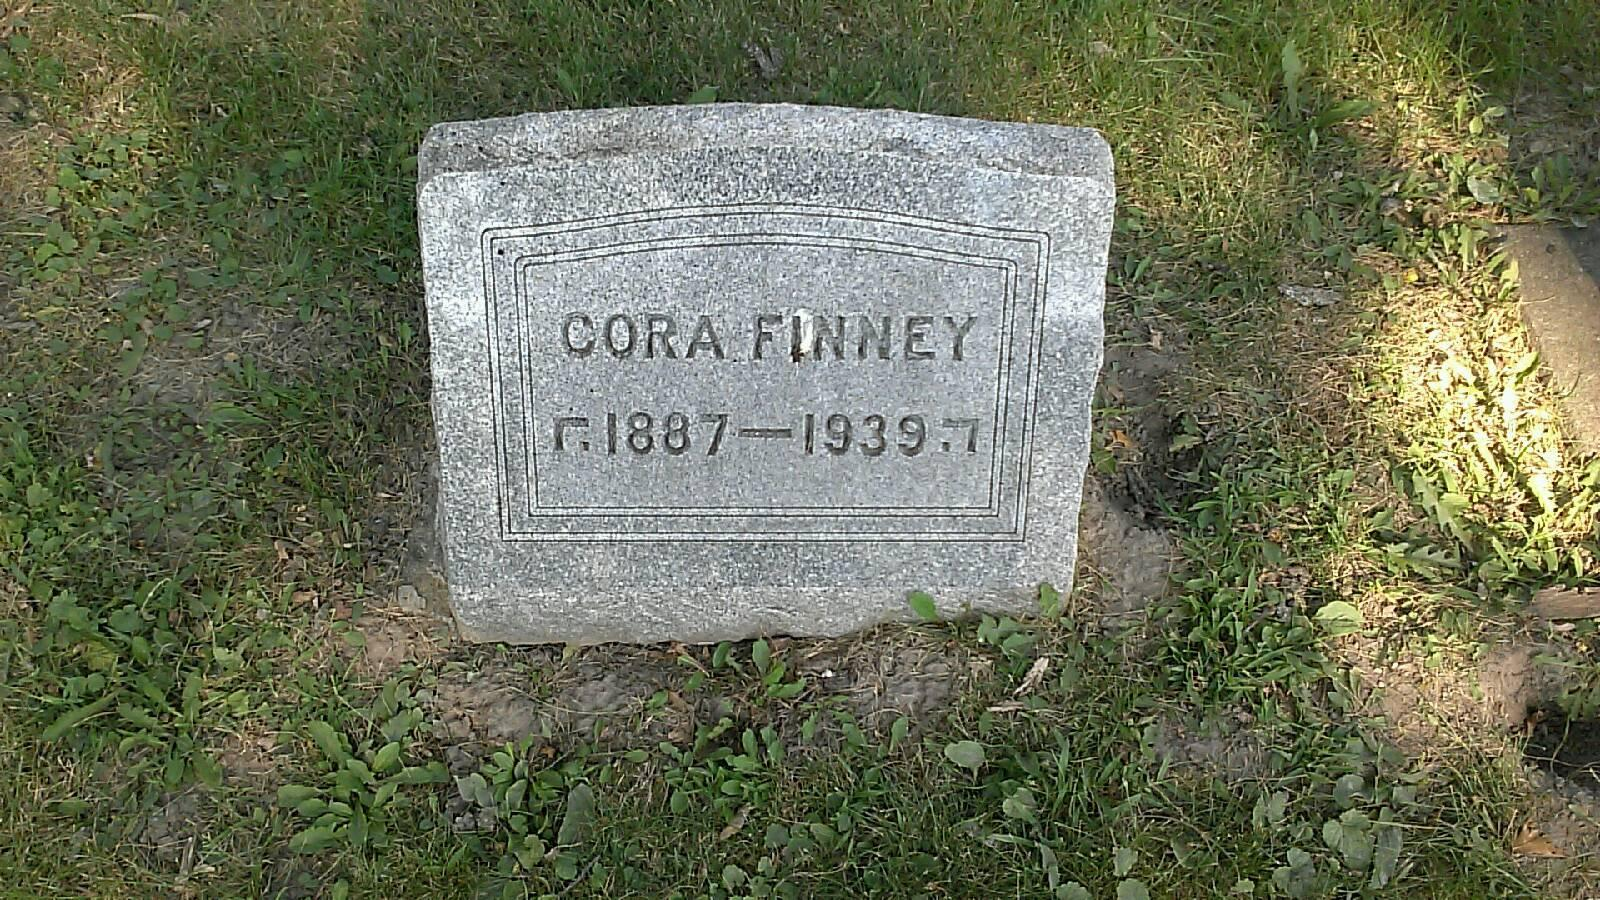slant: (398, 101, 1116, 647)
